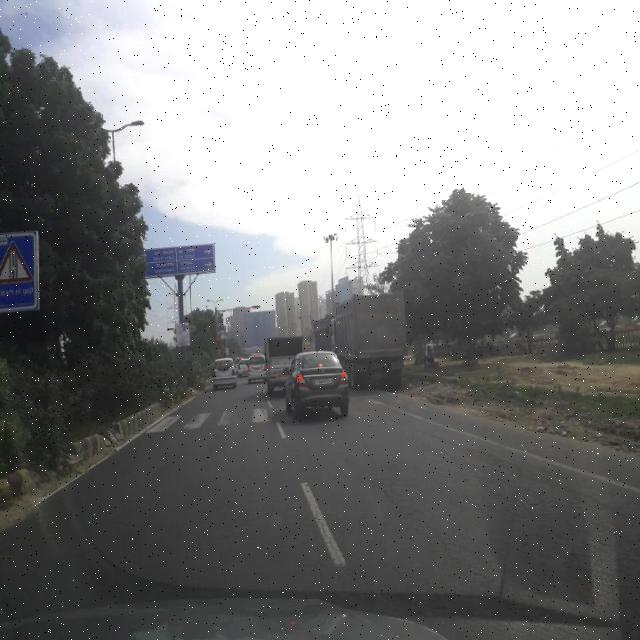D20: (68, 445, 640, 611)
D43: (147, 399, 286, 439)
D44: (297, 473, 351, 573)
